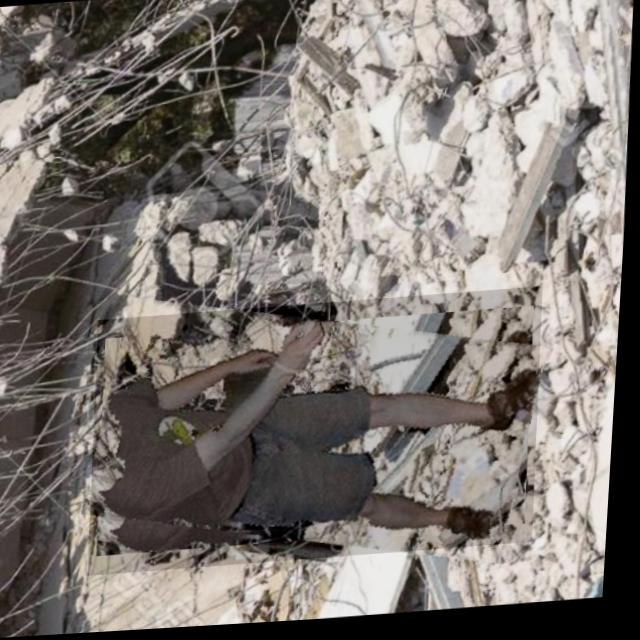Person in Rubble: (90, 291, 551, 576)
